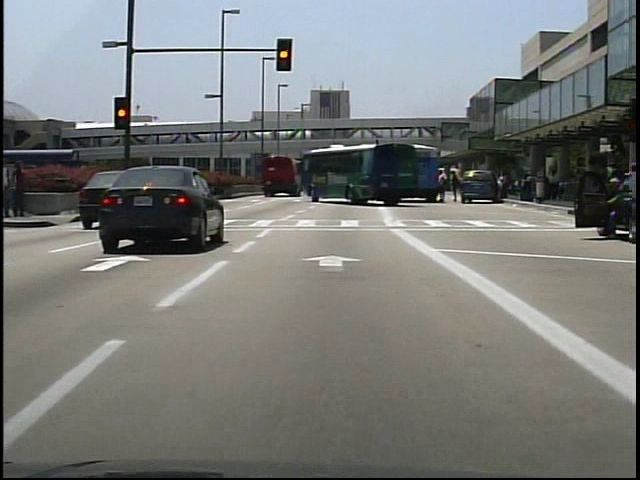person: (593, 176, 629, 240), (16, 161, 34, 219), (447, 167, 461, 204), (433, 167, 447, 203), (496, 169, 508, 201), (8, 165, 9, 219)
